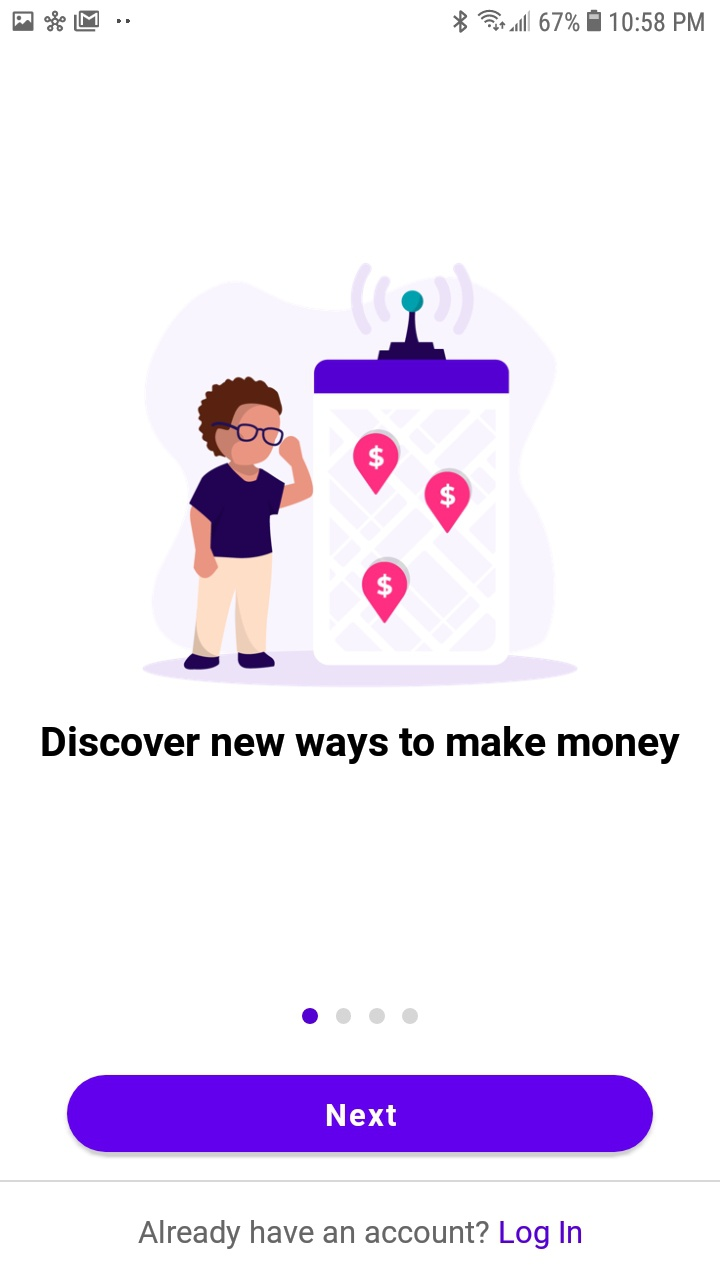Image: (143, 263, 579, 688)
PageIndicator: (302, 1007, 419, 1025)
Text: (42, 725, 681, 765), (138, 1219, 582, 1250)
TextButton: (67, 1075, 654, 1153)
UpperTaskBar: (1, 1, 720, 35)
